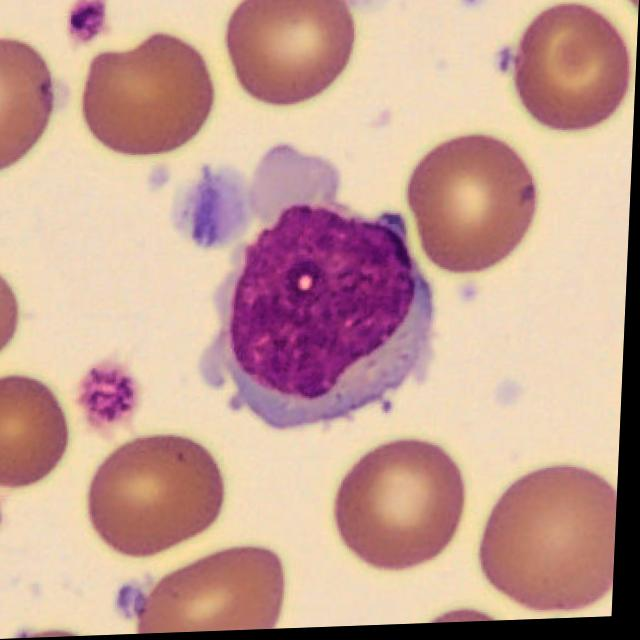Linfocito: (227, 205, 435, 427)
